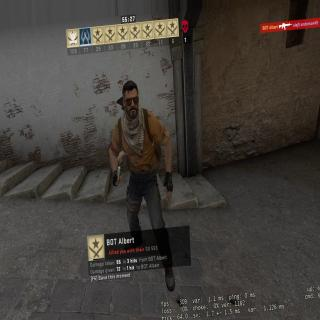T-Body: (105, 84, 178, 304)
T-Head: (120, 81, 142, 125)
